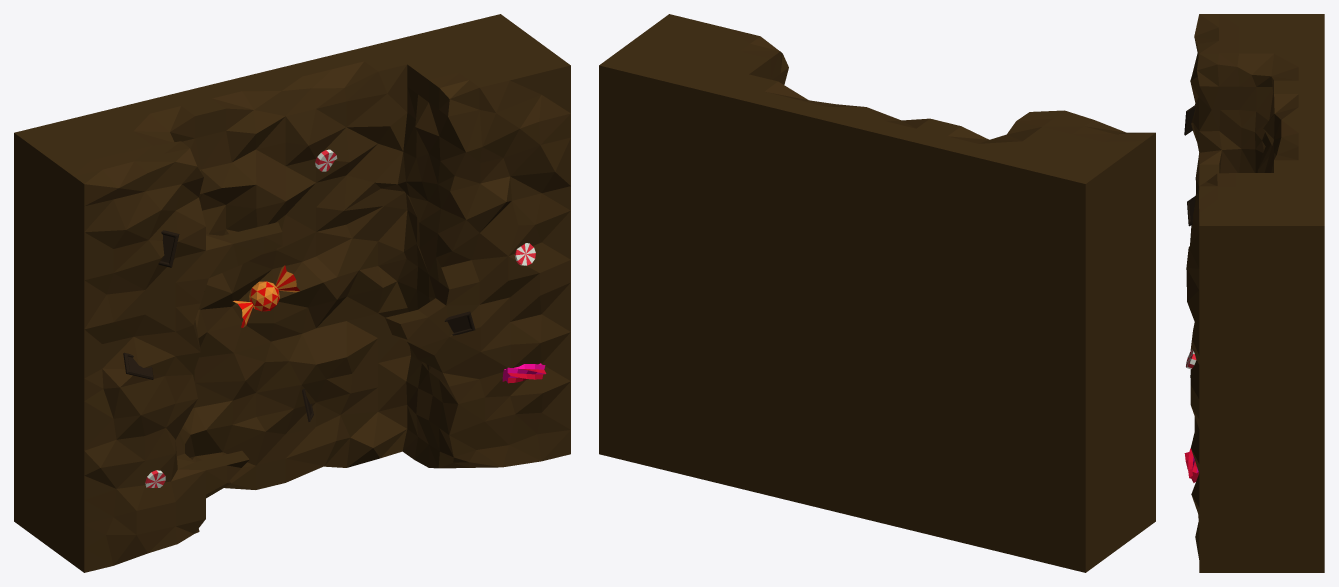
The model's file is level_Module_01.fbx.
3 views of the same model, side by side, from view 1: azimuth 30°, elevation 25°; view 2: azimuth 150°, elevation 25°; view 3: azimuth 270°, elevation 25° (orthographic). The views are drawn at different scales.
Visible parts, largest first — view 1: Cube, Candy; view 2: Cube; view 3: Cube, Circle.003, Cube.003.
Part boxes in pixels (left/top/right/bottom): Cube: left=14, top=14, right=570, bottom=572; Candy: left=233, top=265, right=299, bottom=327; Cube: left=599, top=14, right=1155, bottom=572; Cube: left=1186, top=14, right=1324, bottom=572; Circle.003: left=1184, top=448, right=1198, bottom=482; Cube.003: left=1184, top=104, right=1195, bottom=135.
Bounding box in the file's own units: 2101 × 1604 × 588.
